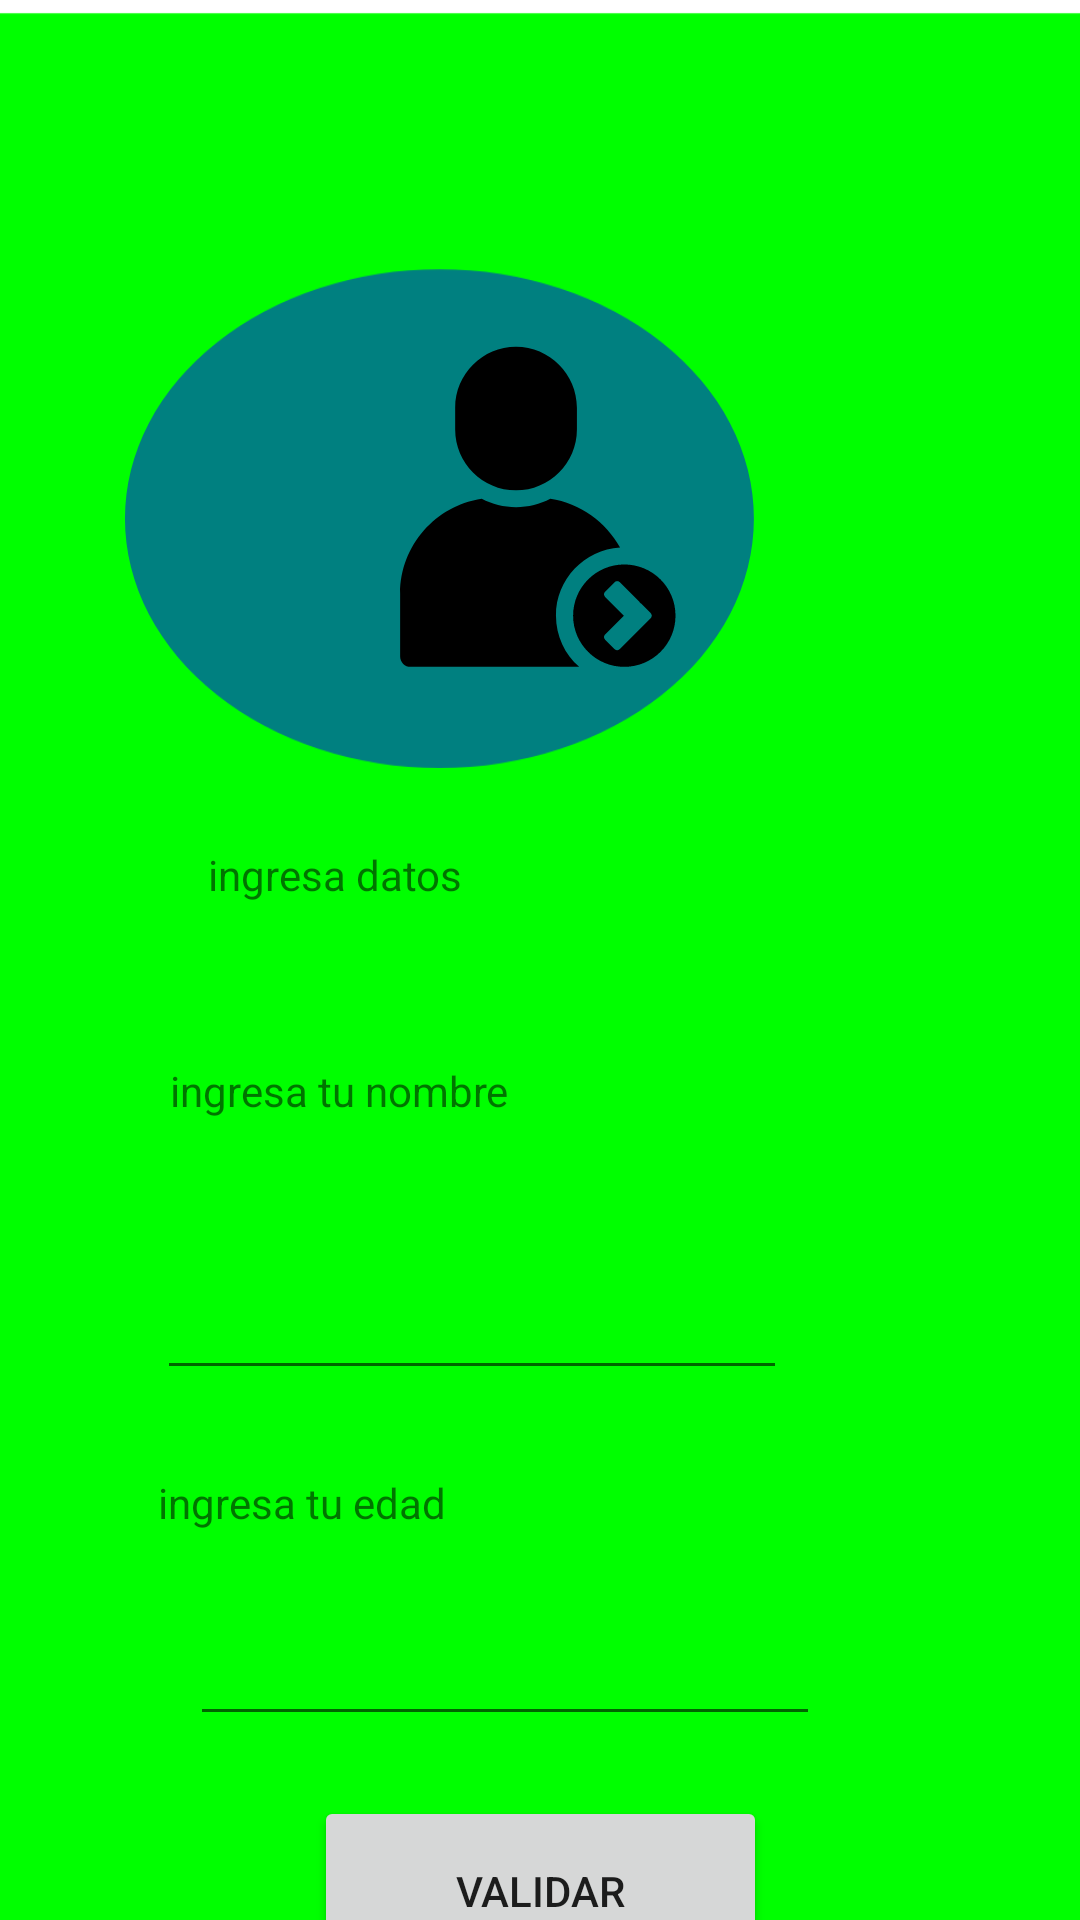

Icons on this 1080 × 1920 Android screen, each with its box as (x1, y1, x2, y2):
user: (400, 346, 676, 667)
